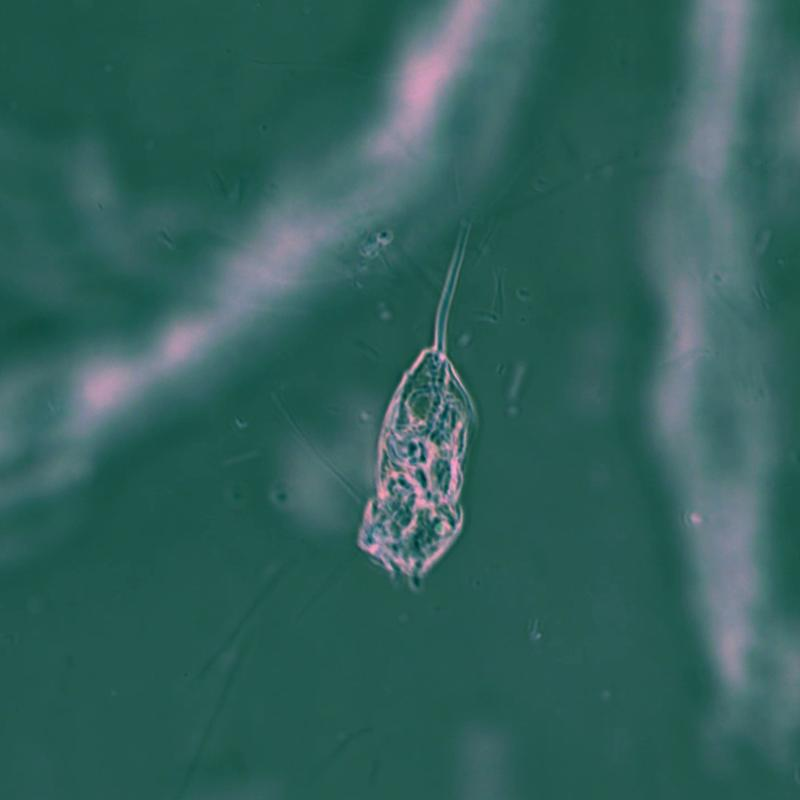depth:0: (359, 211, 525, 612)
